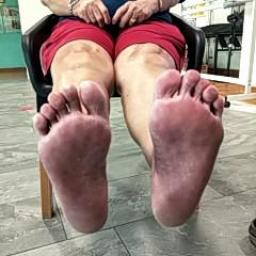Plantar View -Both Feet-: (13, 56, 231, 238)
